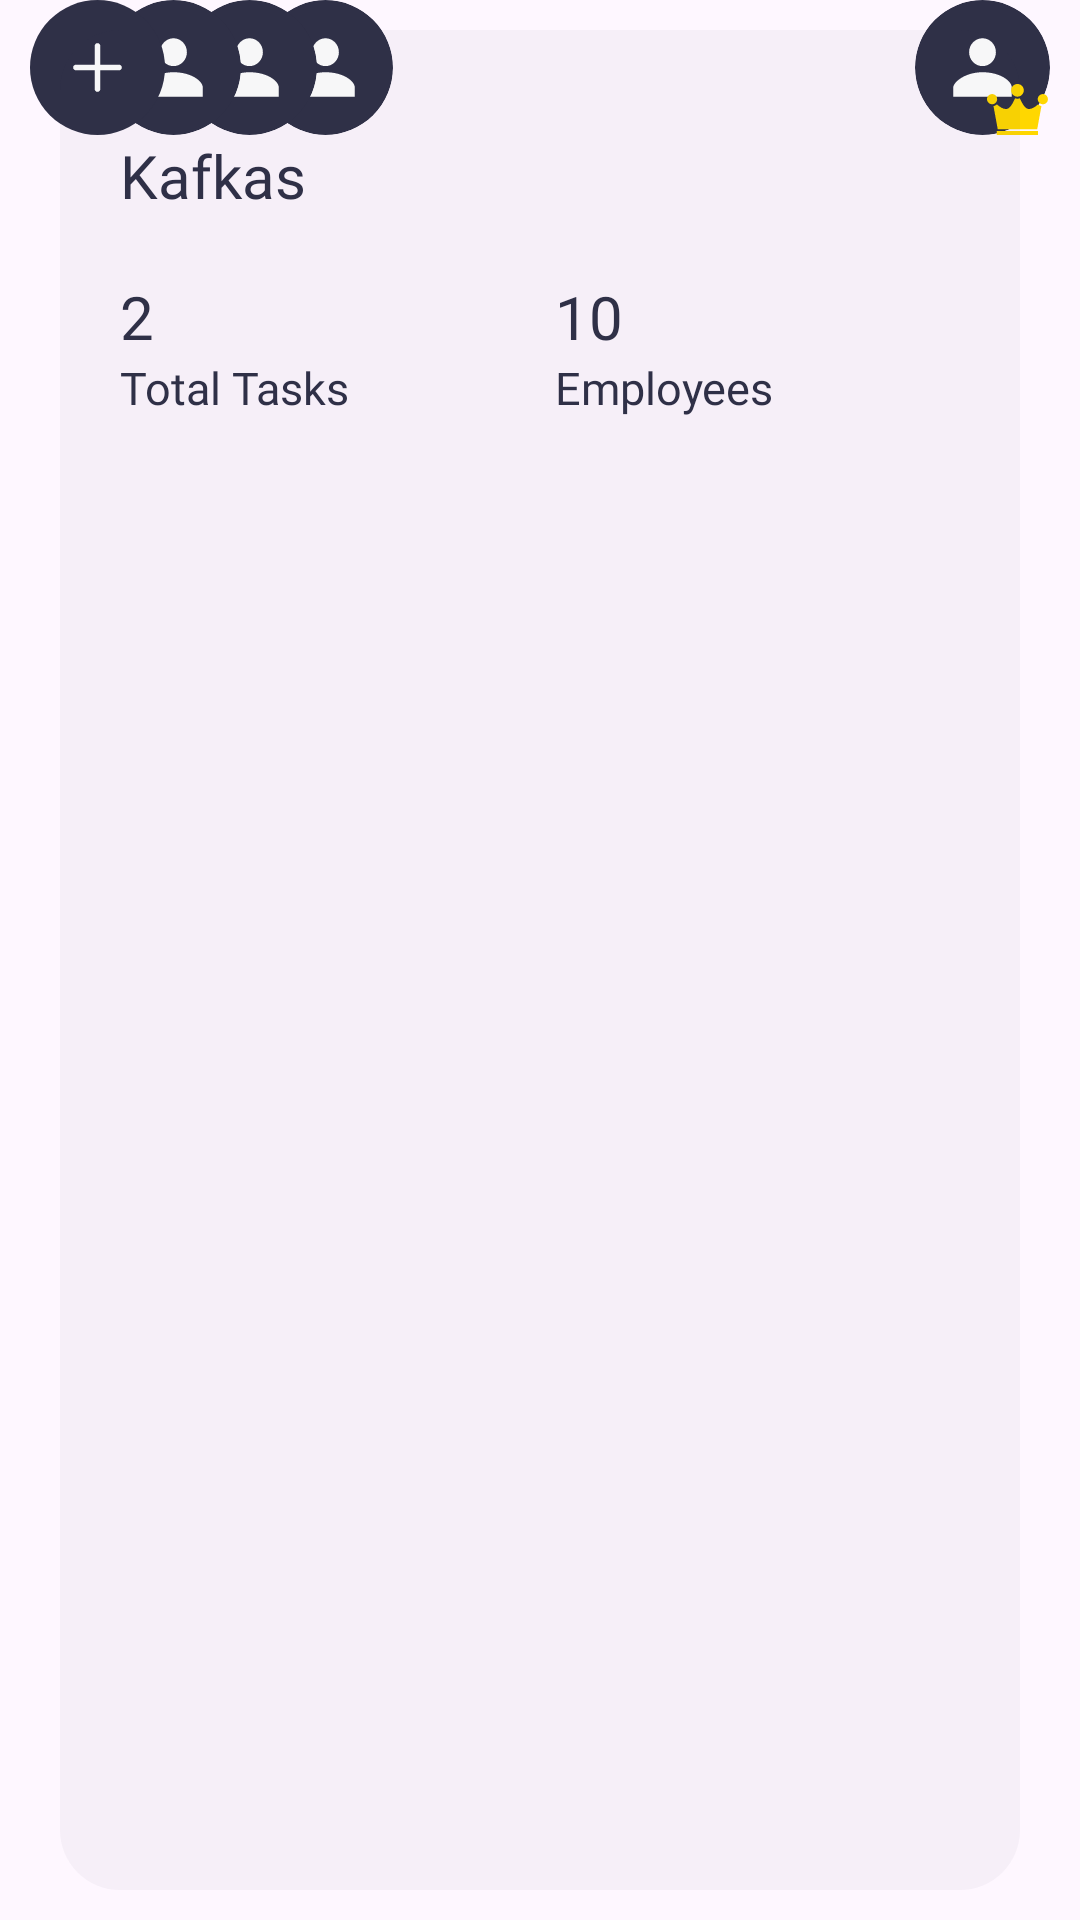

Icons on this 1080 x 1920 Android screen, each with the point to tap as (x=x, y=y):
add employees: (x=97, y=67)
